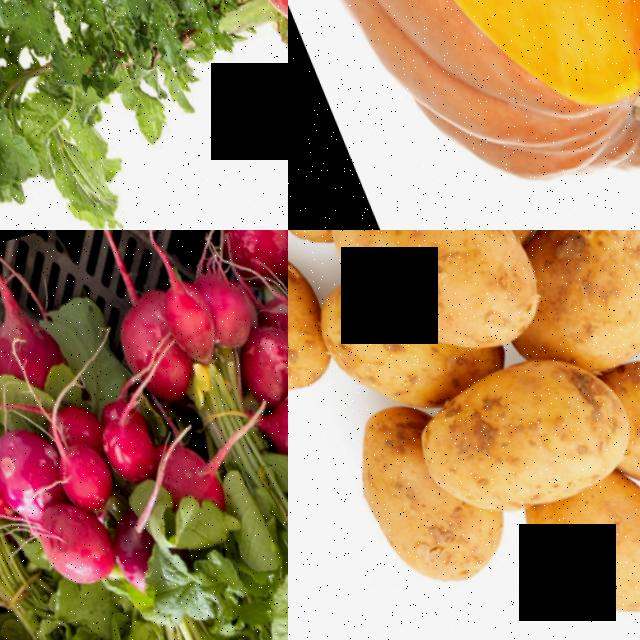potato: (387, 332, 640, 535), (303, 230, 557, 380), (322, 399, 477, 600), (504, 463, 640, 640), (488, 230, 640, 378), (288, 230, 338, 415), (602, 331, 640, 518)
pumpkin: (288, 0, 640, 230)
radishes: (0, 343, 261, 630), (0, 0, 288, 186), (89, 232, 288, 482), (0, 378, 54, 640), (237, 322, 288, 575)
